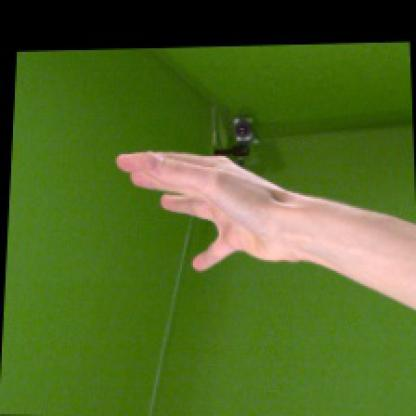Hand: (115, 150, 304, 272)
